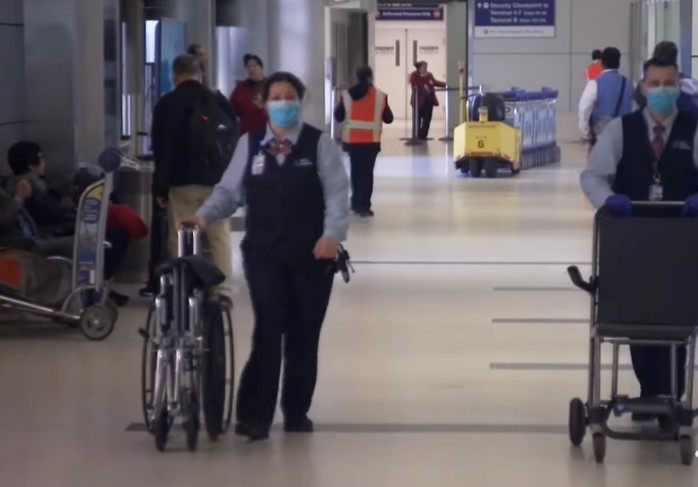face_with_mask: (639, 60, 684, 125), (261, 75, 307, 138)
